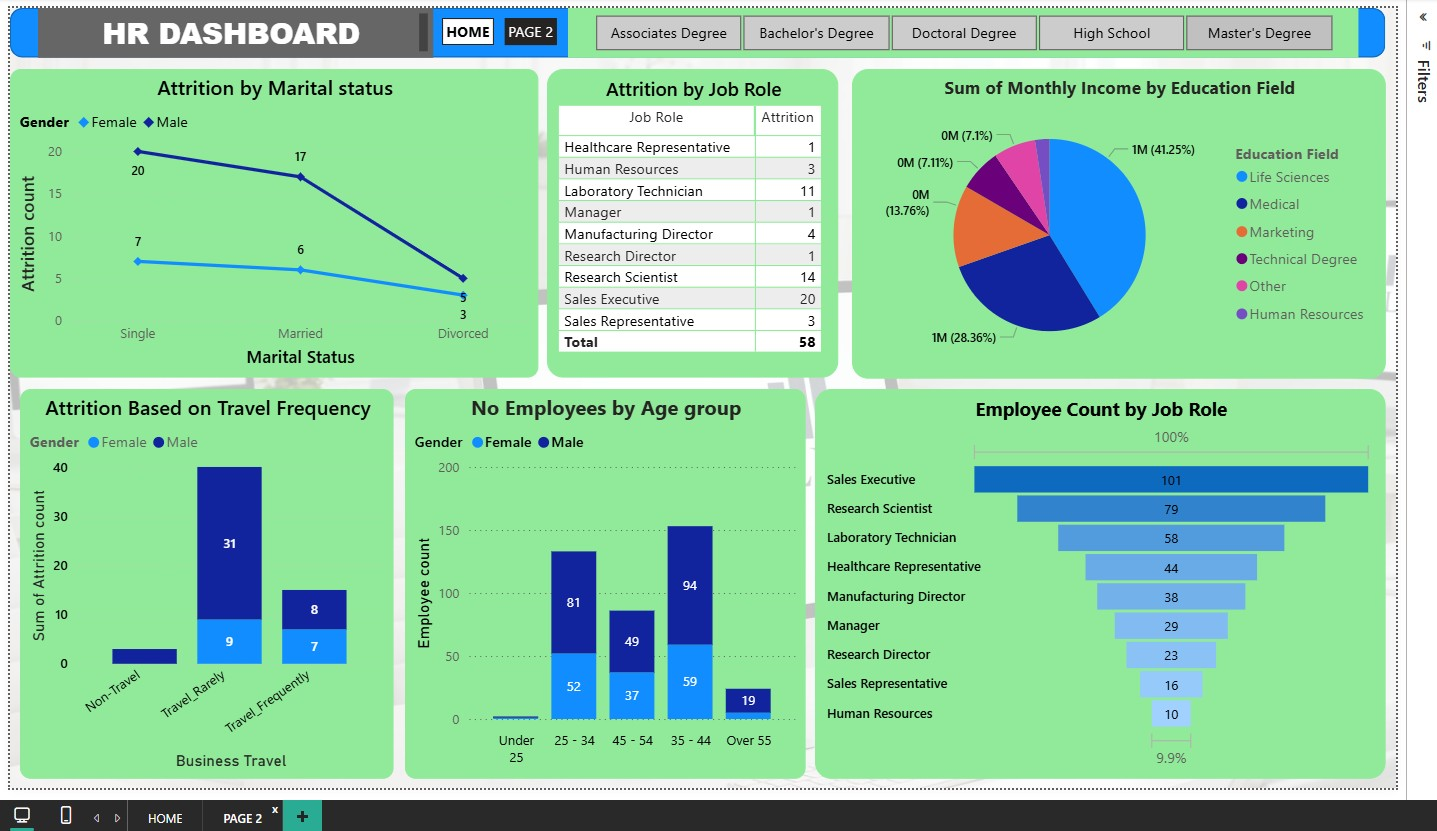

This screenshot's page, from the dashboard's own definition file:
{"tool":"powerbi","page":{"name":"PAGE  2","canvas":[1280,720],"ordinal":1},"visuals":[{"type":"lineChart","title":"Attrition by Marital status ","fields":{"Category":["HR data.Marital Status"],"Y":["Sum(HR data.Attrition count)"],"Series":["HR data.Gender"]},"box":[0,56.3,487.6,284.7],"z":5000},{"type":"columnChart","title":"No Employees by Age group","fields":{"Category":["HR data.CF_age band"],"Y":["Sum(HR data.Employee Count)"],"Series":["HR data.Gender"]},"box":[364.3,351.6,369.7,360.1],"z":6000},{"type":"columnChart","title":"Attrition Based on Travel Frequency","fields":{"Category":["HR data.Business Travel"],"Series":["HR data.Gender"],"Y":["Sum(HR data.Attrition count)"]},"box":[9.6,351.6,345.2,360.1],"z":8000},{"type":"shape","box":[0,0,1270.1,45.7],"z":20000},{"type":"textbox","box":[25.5,0,365.4,45.7],"z":21000},{"type":"slicer","fields":{"Values":["HR data.Education"]},"box":[515.2,0,729.8,45.7],"z":22000},{"type":"pivotTable","title":"Attrition by Job Role","fields":{"Rows":["HR data.Job Role"],"Values":["Sum(HR data.Attrition count)"]},"box":[496.1,56.3,268.7,284.7],"z":22001},{"type":"funnel","title":"Employee Count by Job Role","fields":{"Y":["Sum(HR data.Employee Count)"],"Category":["HR data.Job Role"]},"box":[743.6,351.6,526.9,360.1],"z":22002},{"type":"pieChart","fields":{"Y":["Sum(HR data.Monthly Income)"],"Category":["HR data.Education Field"]},"box":[777.6,56.3,492.9,285.7],"z":22003},{"type":"pageNavigator","box":[399.4,9.6,107.3,25.5],"z":22004}]}

Visuals, with their boxes in screenshot pixels (x1, y1, x2, y2):
"Attrition by Marital status " lineChart: [0,66,532,381]
"No Employees by Age group" columnChart: [396,393,805,792]
"Attrition Based on Travel Frequency" columnChart: [3,393,385,792]
shape: [0,4,1399,54]
textbox: [21,4,425,54]
slicer - HR data.Education: [563,4,1371,54]
"Attrition by Job Role" pivotTable: [542,66,839,381]
"Employee Count by Job Role" funnel: [816,393,1399,792]
pieChart - Sum(HR data.Monthly Income) x HR data.Education Field: [853,66,1399,382]
pageNavigator: [435,14,554,43]
